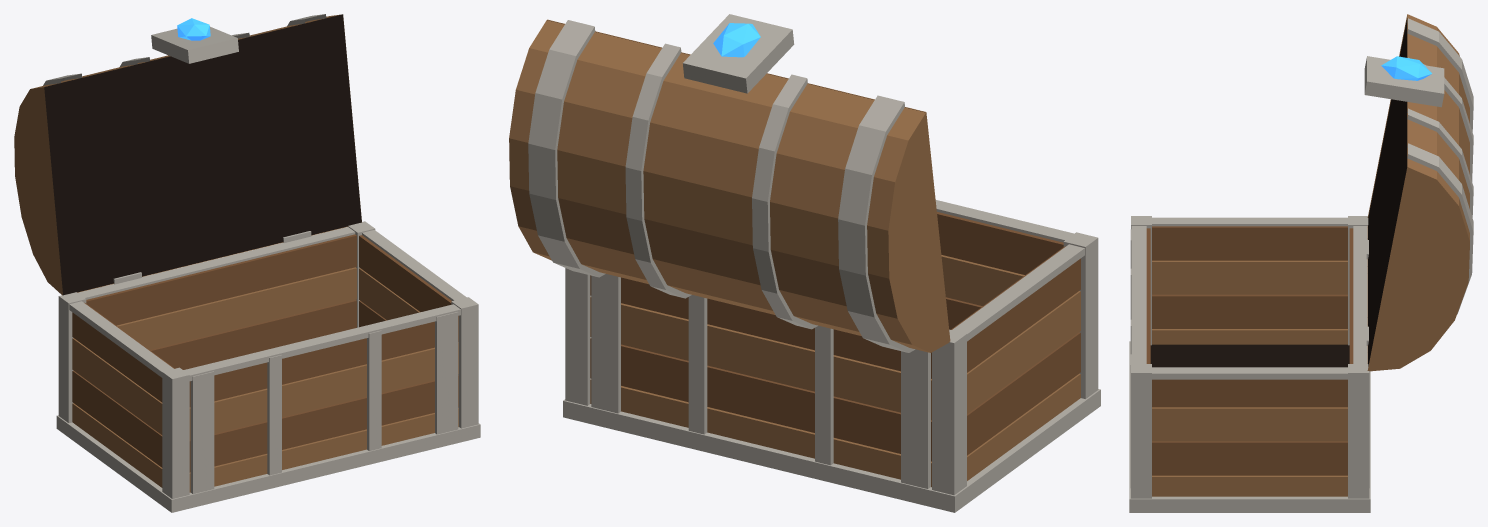
File: cofre.glb
3 views of the same model, side by side, from view 1: azimuth 30°, elevation 25°; view 2: azimuth 150°, elevation 25°; view 3: azimuth 270°, elevation 25° (orthographic). The views are drawn at different scales.
Visible parts, largest first — view 1: FG_Cofre, FG_Cofre_Tapa; view 2: FG_Cofre_Tapa, FG_Cofre; view 3: FG_Cofre, FG_Cofre_Tapa.
Boxes of the visible parts, box(x1,y1,x2,y2) form: FG_Cofre: box(56, 221, 480, 512); FG_Cofre_Tapa: box(14, 14, 361, 295); FG_Cofre_Tapa: box(509, 14, 950, 352); FG_Cofre: box(563, 200, 1100, 512); FG_Cofre: box(1129, 216, 1370, 512); FG_Cofre_Tapa: box(1364, 14, 1473, 371).
Size of the model in its own units: 1.24 by 1.37 by 1.14.
